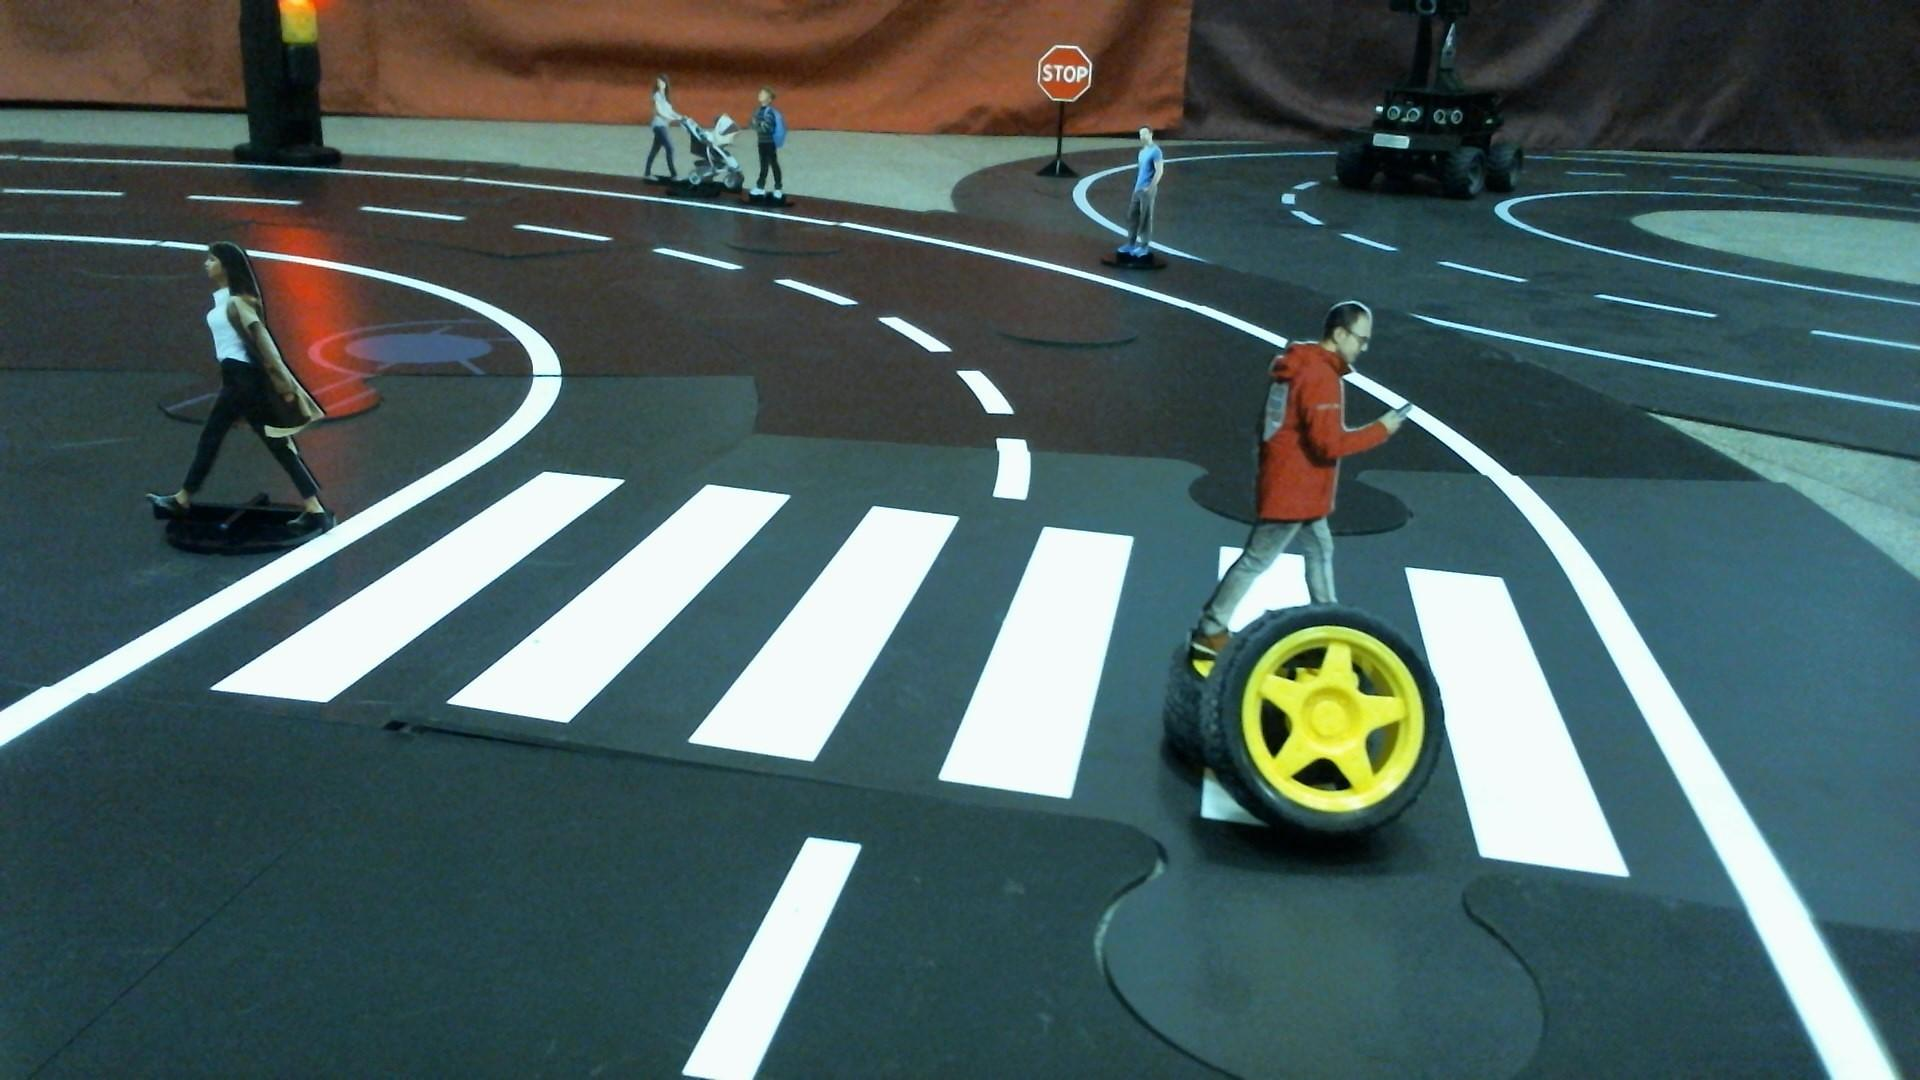barricade: (1190, 615, 1430, 858)
crossing: (157, 460, 1700, 895)
person: (1185, 292, 1423, 612), (142, 235, 338, 557), (642, 73, 742, 208), (1113, 128, 1172, 265), (745, 83, 793, 213)
